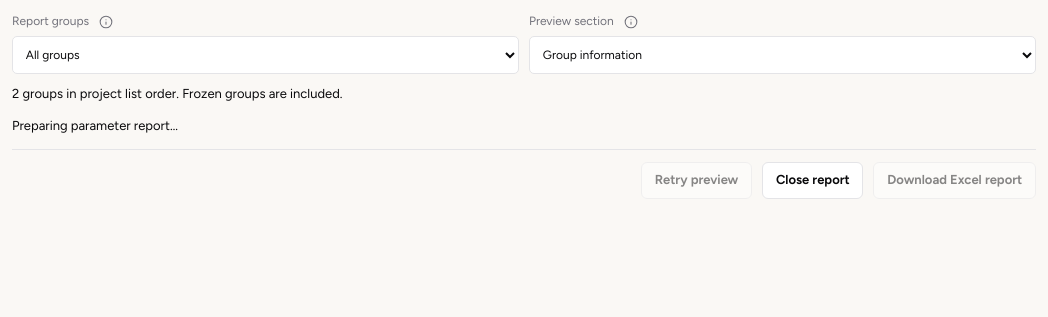
Test: ignores a late all-groups preview after selecting marked groups
Select "Marked groups" in the dropdown labelled "Report groups" at (266, 55), box [12,36,519,74]
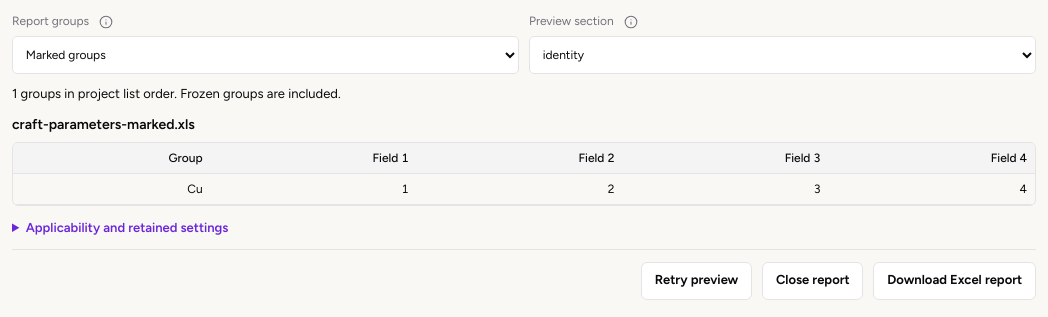
Now the button "Download Excel report" is enabled, box [874,262,1036,300]
